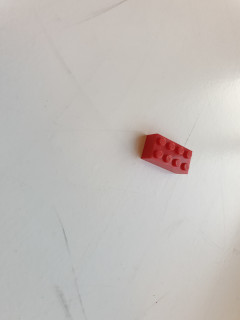2x4 red: (140, 134, 193, 177)
